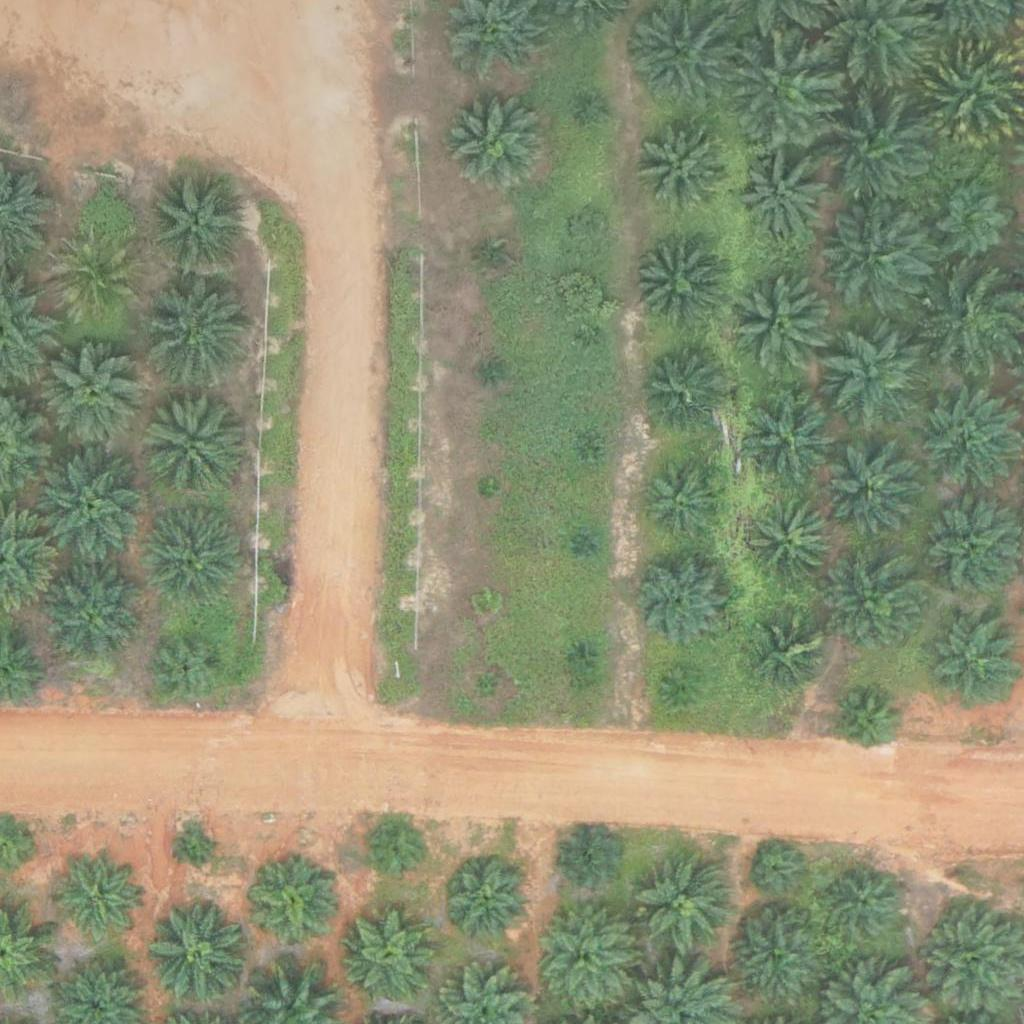Kelapa_Sawit: (35, 448, 148, 561), (818, 94, 930, 208), (822, 197, 934, 311), (727, 30, 839, 144), (624, 545, 736, 658), (143, 274, 255, 387), (821, 326, 921, 427), (730, 275, 830, 376), (738, 387, 838, 488), (443, 87, 543, 188), (825, 554, 925, 655), (919, 499, 1019, 600), (145, 174, 245, 275), (42, 566, 142, 667), (535, 906, 635, 1007), (635, 854, 735, 955), (724, 908, 824, 1009), (919, 391, 1019, 491), (140, 394, 240, 494), (145, 508, 245, 608), (46, 347, 146, 447), (148, 900, 248, 1000), (642, 456, 730, 545), (639, 348, 727, 436), (748, 500, 836, 588), (51, 237, 139, 325), (53, 855, 141, 943), (346, 910, 434, 998), (445, 859, 533, 947), (828, 452, 915, 540), (740, 153, 827, 241), (640, 120, 727, 208), (633, 242, 720, 330), (252, 864, 339, 952), (151, 630, 226, 706), (935, 181, 1010, 257), (755, 618, 830, 693), (827, 867, 902, 942), (834, 691, 897, 754), (557, 829, 620, 892), (367, 822, 429, 885), (752, 846, 802, 896), (571, 212, 609, 250), (664, 667, 702, 705), (179, 830, 216, 868), (584, 97, 609, 122), (580, 327, 605, 352), (574, 443, 599, 468), (480, 247, 505, 272), (480, 360, 505, 385), (476, 478, 501, 503), (472, 590, 497, 615), (475, 674, 500, 699), (575, 532, 600, 557), (568, 642, 593, 667)
